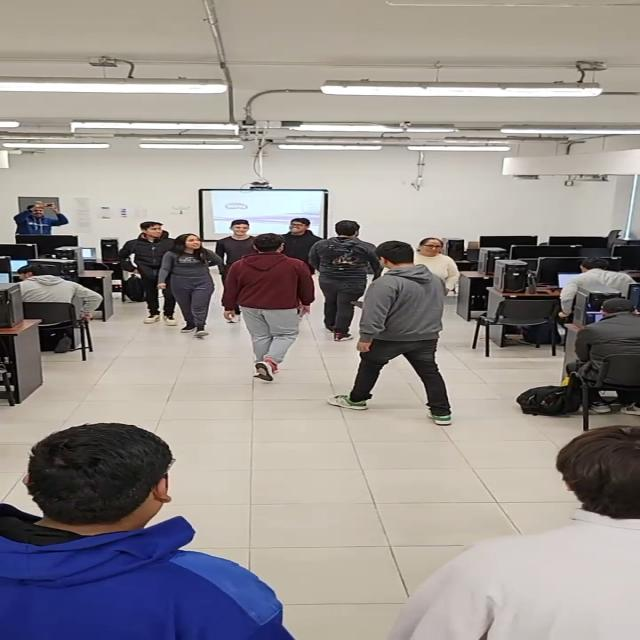Persona: (0, 413, 292, 640), (401, 422, 640, 640), (344, 241, 454, 425), (227, 233, 311, 383), (318, 215, 367, 341), (119, 220, 175, 326), (160, 232, 216, 338), (287, 216, 316, 266), (222, 218, 253, 256)
